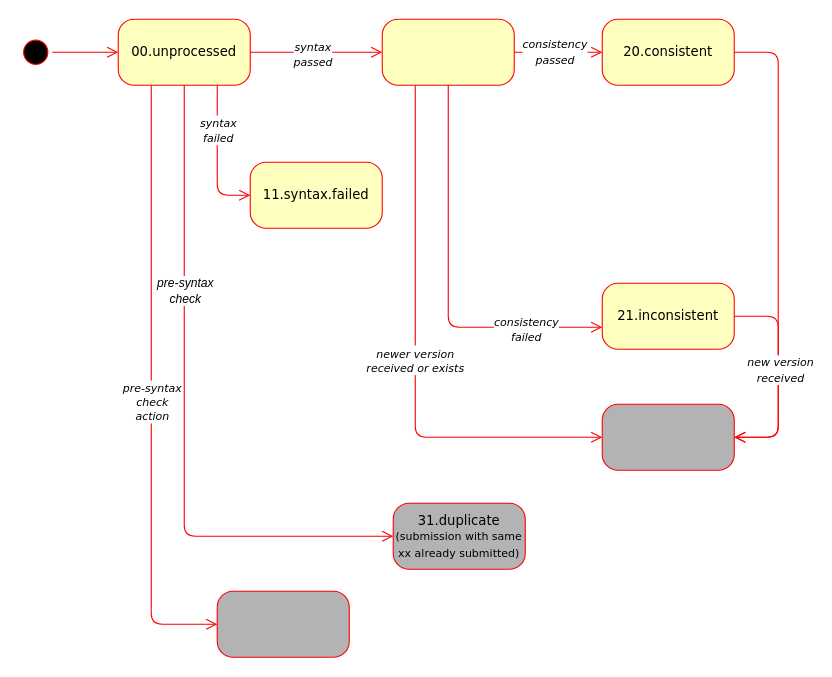
Some shapes in this 832 by 677 pixel diagram are drawn without their labels. Here are the shapes that lost their labels. From the top down, the centre of each, then its label:
(x=447, y=51): 10.syntax.passed
(x=667, y=436): 30.obsolete (when new version of submission received)
(x=282, y=623): 99.archive (copy of unprocessed submission)
